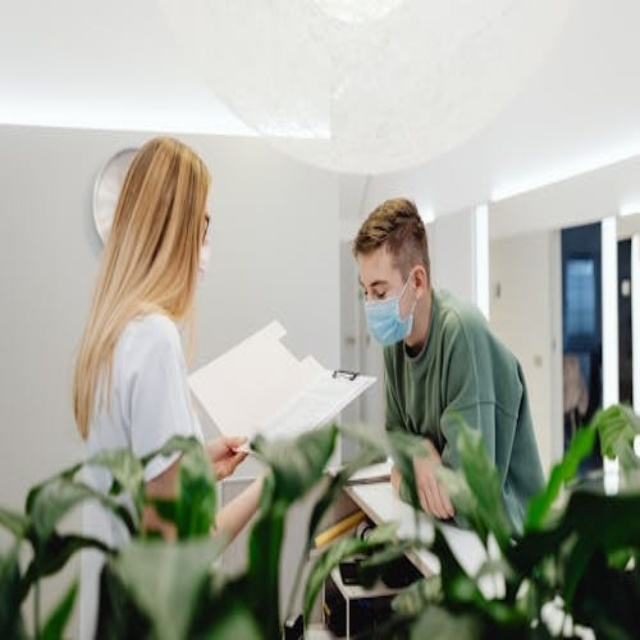Mascara: (363, 272, 416, 346), (197, 229, 212, 286)
Sin_gafas: (356, 271, 401, 302)
Sin_guantes: (410, 453, 456, 522), (207, 434, 251, 482)
